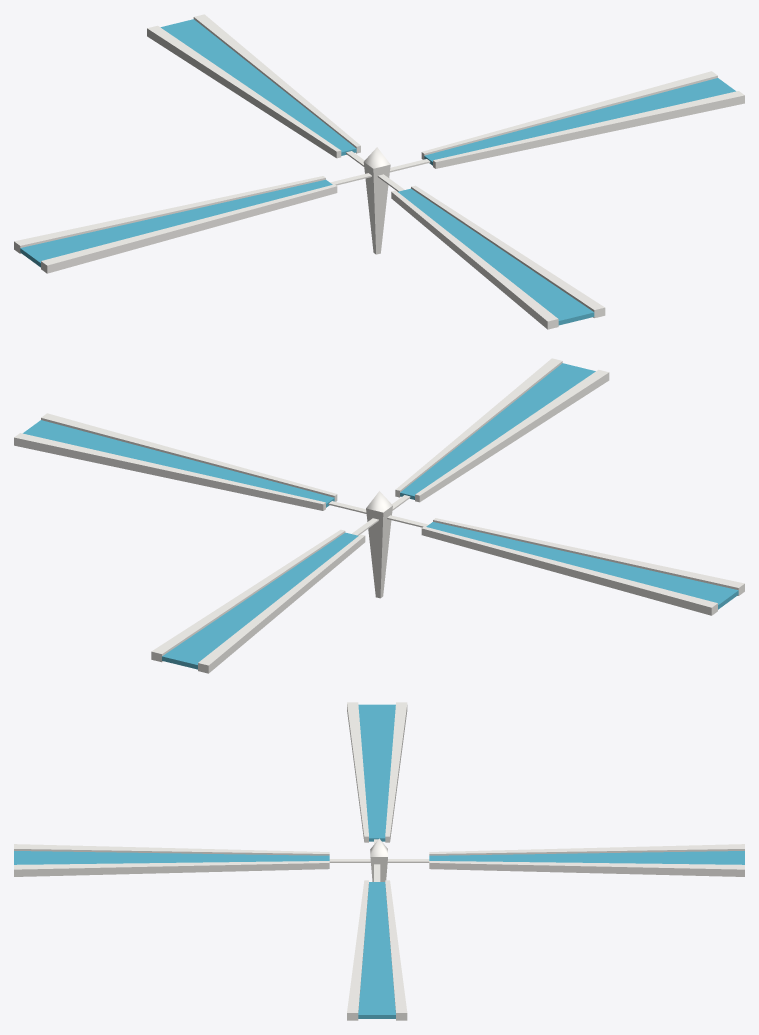
Rendered from Blade B.FBX.
3 views of the same model, one above another, from view 1: azimuth 30°, elevation 25°; view 2: azimuth 150°, elevation 25°; view 3: azimuth 270°, elevation 25° (orthographic). The views are drawn at different scales.
Parts seen in each view (by area): view 1: Box002; view 2: Box002; view 3: Box002.
Part boxes in pixels (box(x1,y1,x2,y2)): Box002: box(14, 14, 744, 329); Box002: box(14, 358, 744, 673); Box002: box(14, 702, 744, 1020).
Bounding box in the file's own units: 28.55 × 4.15 × 28.4.
